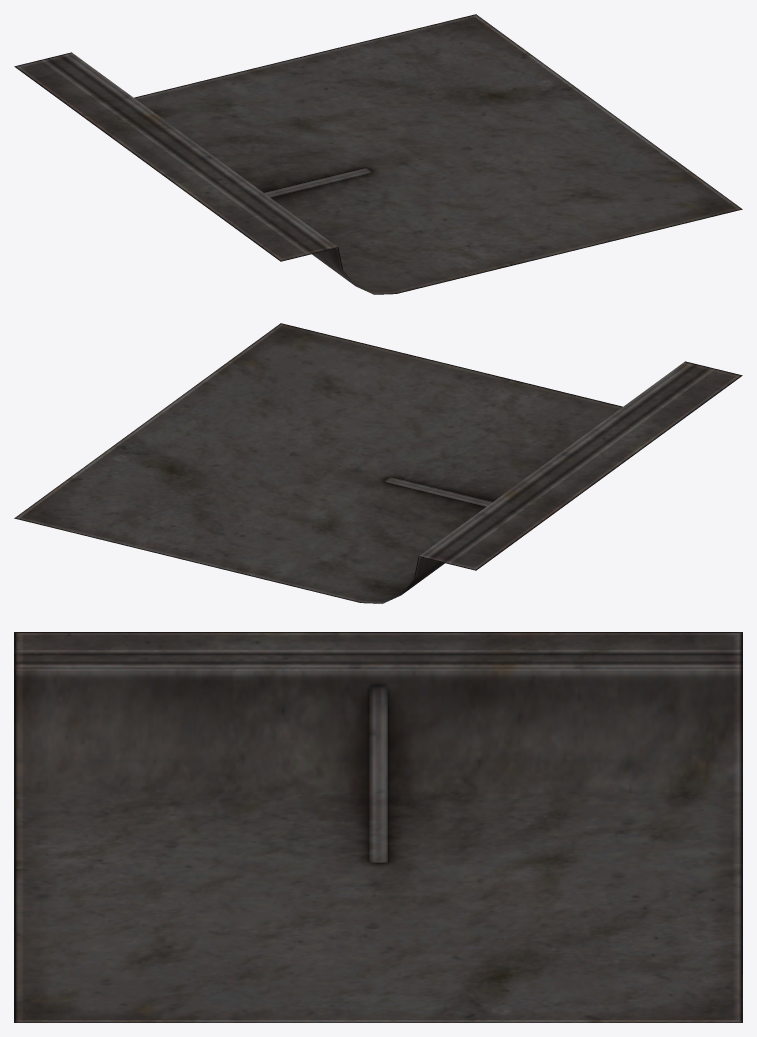
The model's file is pplant_ground_edge_straight_sunk_grey.dae.
3 renders of one model, top to bottom at view 1: azimuth 30°, elevation 25°; view 2: azimuth 150°, elevation 25°; view 3: azimuth 270°, elevation 25°, orthographic. The views are drawn at different scales.
Parts seen in each view (by area): view 1: edge_straight_sunk_grey; view 2: edge_straight_sunk_grey; view 3: edge_straight_sunk_grey.
Part boxes in pixels (x1,y1,x2,y2): edge_straight_sunk_grey: (14,14,742,294); edge_straight_sunk_grey: (14,323,742,603); edge_straight_sunk_grey: (14,632,742,1022).
Bounding box in the file's own units: 2 × 0.25 × 2.
